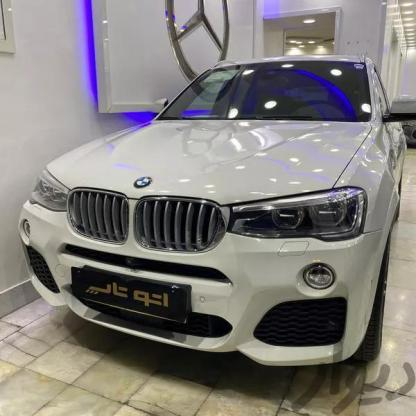Car: (1, 43, 416, 379)
